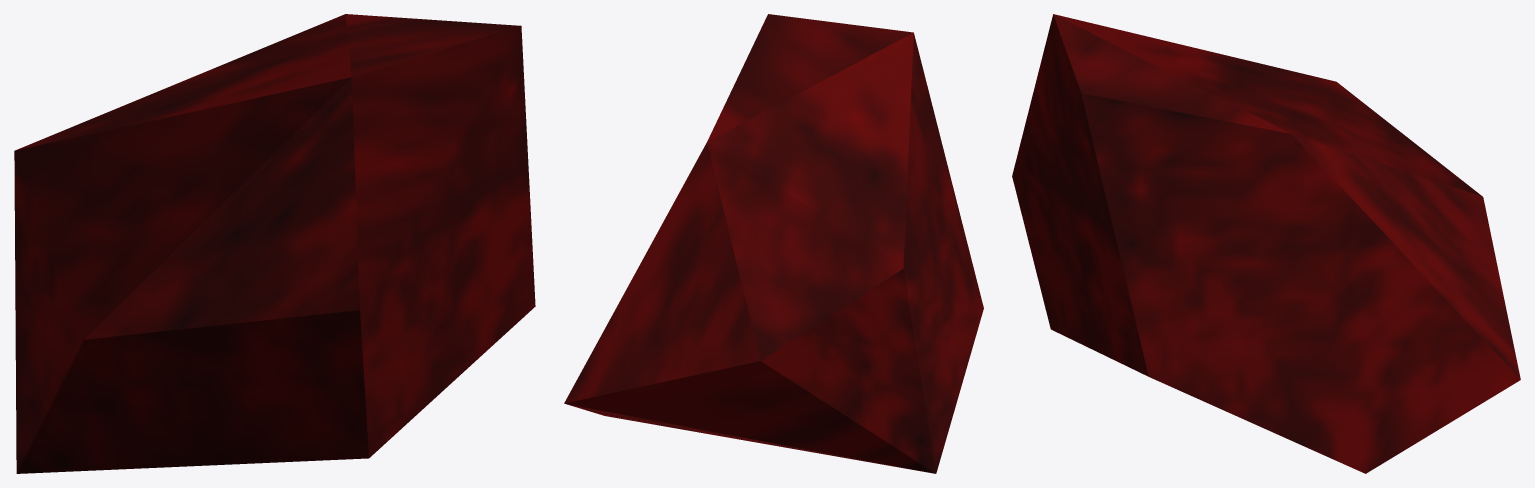
The model's file is gib.glb.
3 renders of one model, left to right at view 1: azimuth 30°, elevation 25°; view 2: azimuth 150°, elevation 25°; view 3: azimuth 270°, elevation 25°, orthographic. The views are drawn at different scales.
Parts seen in each view (by area): view 1: gib; view 2: gib; view 3: gib.
Part boxes in pixels (x1,y1,x2,y2): gib: (14,14,535,473); gib: (564,14,983,473); gib: (1012,14,1520,473).
Bounding box in the file's own units: 0.4544 × 0.4717 × 0.5831.
1 material, 1 textured.
